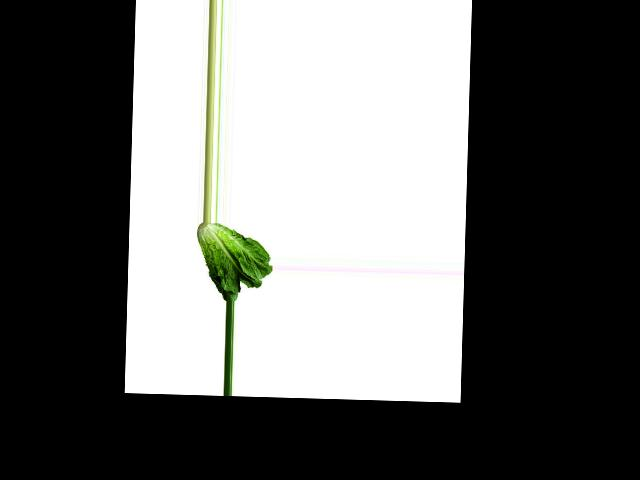lettuce: (194, 223, 274, 300)
